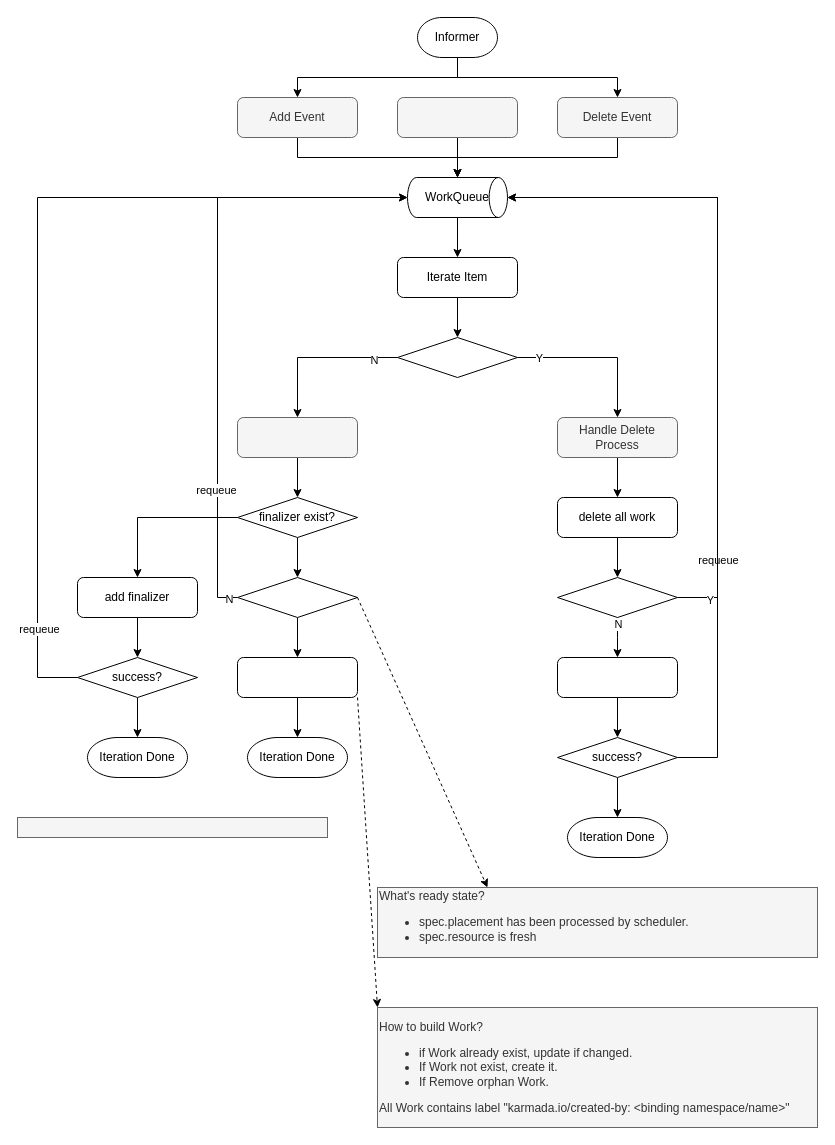
This 835x1145 diagram has some shape labels left out. The shapes that lost their labels are listed below. From the top down, each one's centre as x and y in pixels, then its label:
the point at 457,117: Update Event
the point at 457,357: Deleting?
the point at 297,437: Handle Reconcile Process
the point at 297,597: ready?
the point at 617,597: any pending finalized?
the point at 297,677: build Work
the point at 617,677: remove finalizer
the point at 172,827: Finalizer: "karmada.io/propagationbinding-controller"
